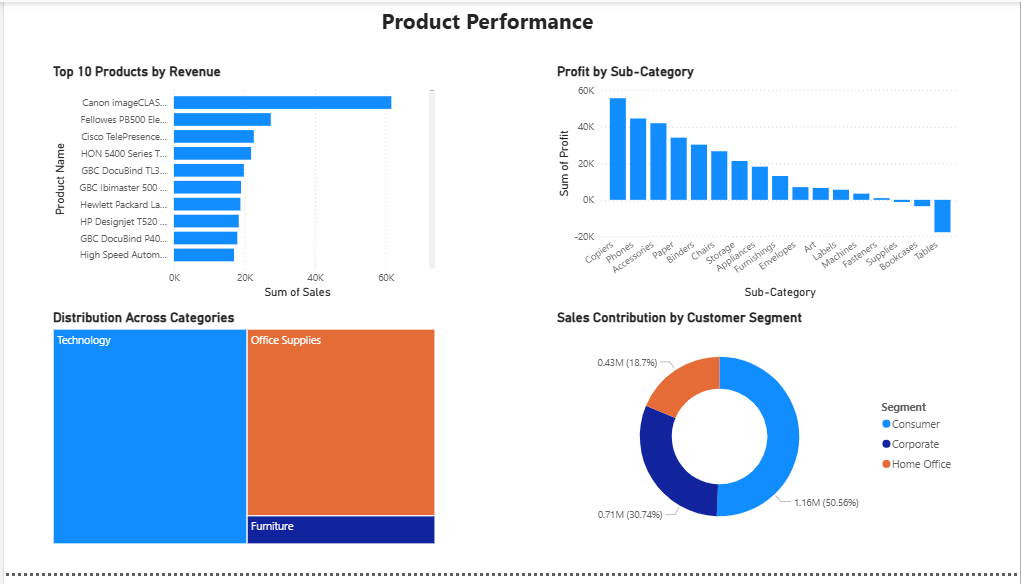

This screenshot's page, from the dashboard's own definition file:
{"tool":"powerbi","page":{"name":"Product Overview","canvas":[1280,720],"ordinal":1},"visuals":[{"type":"textbox","box":[470.6,0,277.8,58.6],"z":0},{"type":"clusteredBarChart","title":"Top 10 Products by Revenue","fields":{"Category":["Sample - Superstore.Product Name"],"Y":["Sum(Sample - Superstore.Sales)"]},"box":[56.7,77.5,491.3,300.5],"z":1000},{"type":"clusteredColumnChart","title":"Profit by Sub-Category","fields":{"Category":["Sample - Superstore.Sub-Category"],"Y":["Sum(Sample - Superstore.Profit)"]},"box":[691.7,77.5,515.9,300.5],"z":2000},{"type":"treemap","title":"Distribution Across Categories","fields":{"Group":["Sample - Superstore.Category"],"Values":["Sum(Sample - Superstore.Profit)"]},"box":[57,387,491,300],"z":3000},{"type":"donutChart","title":"Sales Contribution by Customer Segment","fields":{"Category":["Sample - Superstore.Segment"],"Y":["Sum(Sample - Superstore.Sales)"]},"box":[692,387,516,300],"z":3001}]}

Visuals, with their boxes in screenshot pixels (x1, y1, x2, y2), scaled from the page's 1280x720 canvas onto the 1021x584 screenshot:
textbox: crop(375, 0, 597, 48)
"Top 10 Products by Revenue" clusteredBarChart: crop(45, 63, 437, 307)
"Profit by Sub-Category" clusteredColumnChart: crop(552, 63, 963, 307)
"Distribution Across Categories" treemap: crop(45, 314, 437, 557)
"Sales Contribution by Customer Segment" donutChart: crop(552, 314, 964, 557)
